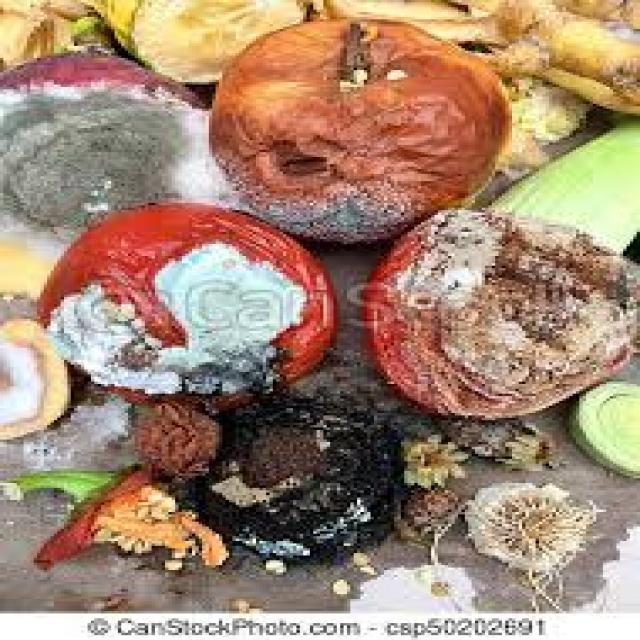organic waste: (206, 17, 508, 239), (30, 200, 337, 401), (357, 203, 637, 415), (0, 43, 209, 249), (303, 0, 637, 109), (178, 389, 390, 560), (482, 114, 636, 251), (84, 0, 307, 82), (461, 478, 593, 604), (482, 70, 590, 172), (0, 309, 71, 440), (0, 0, 118, 65), (562, 377, 636, 476), (391, 473, 468, 558), (131, 401, 219, 473), (438, 413, 549, 466), (394, 422, 458, 486), (552, 0, 636, 24), (320, 575, 354, 594), (260, 556, 286, 572), (222, 592, 250, 606), (428, 577, 451, 594), (344, 546, 367, 560), (357, 560, 371, 570)
